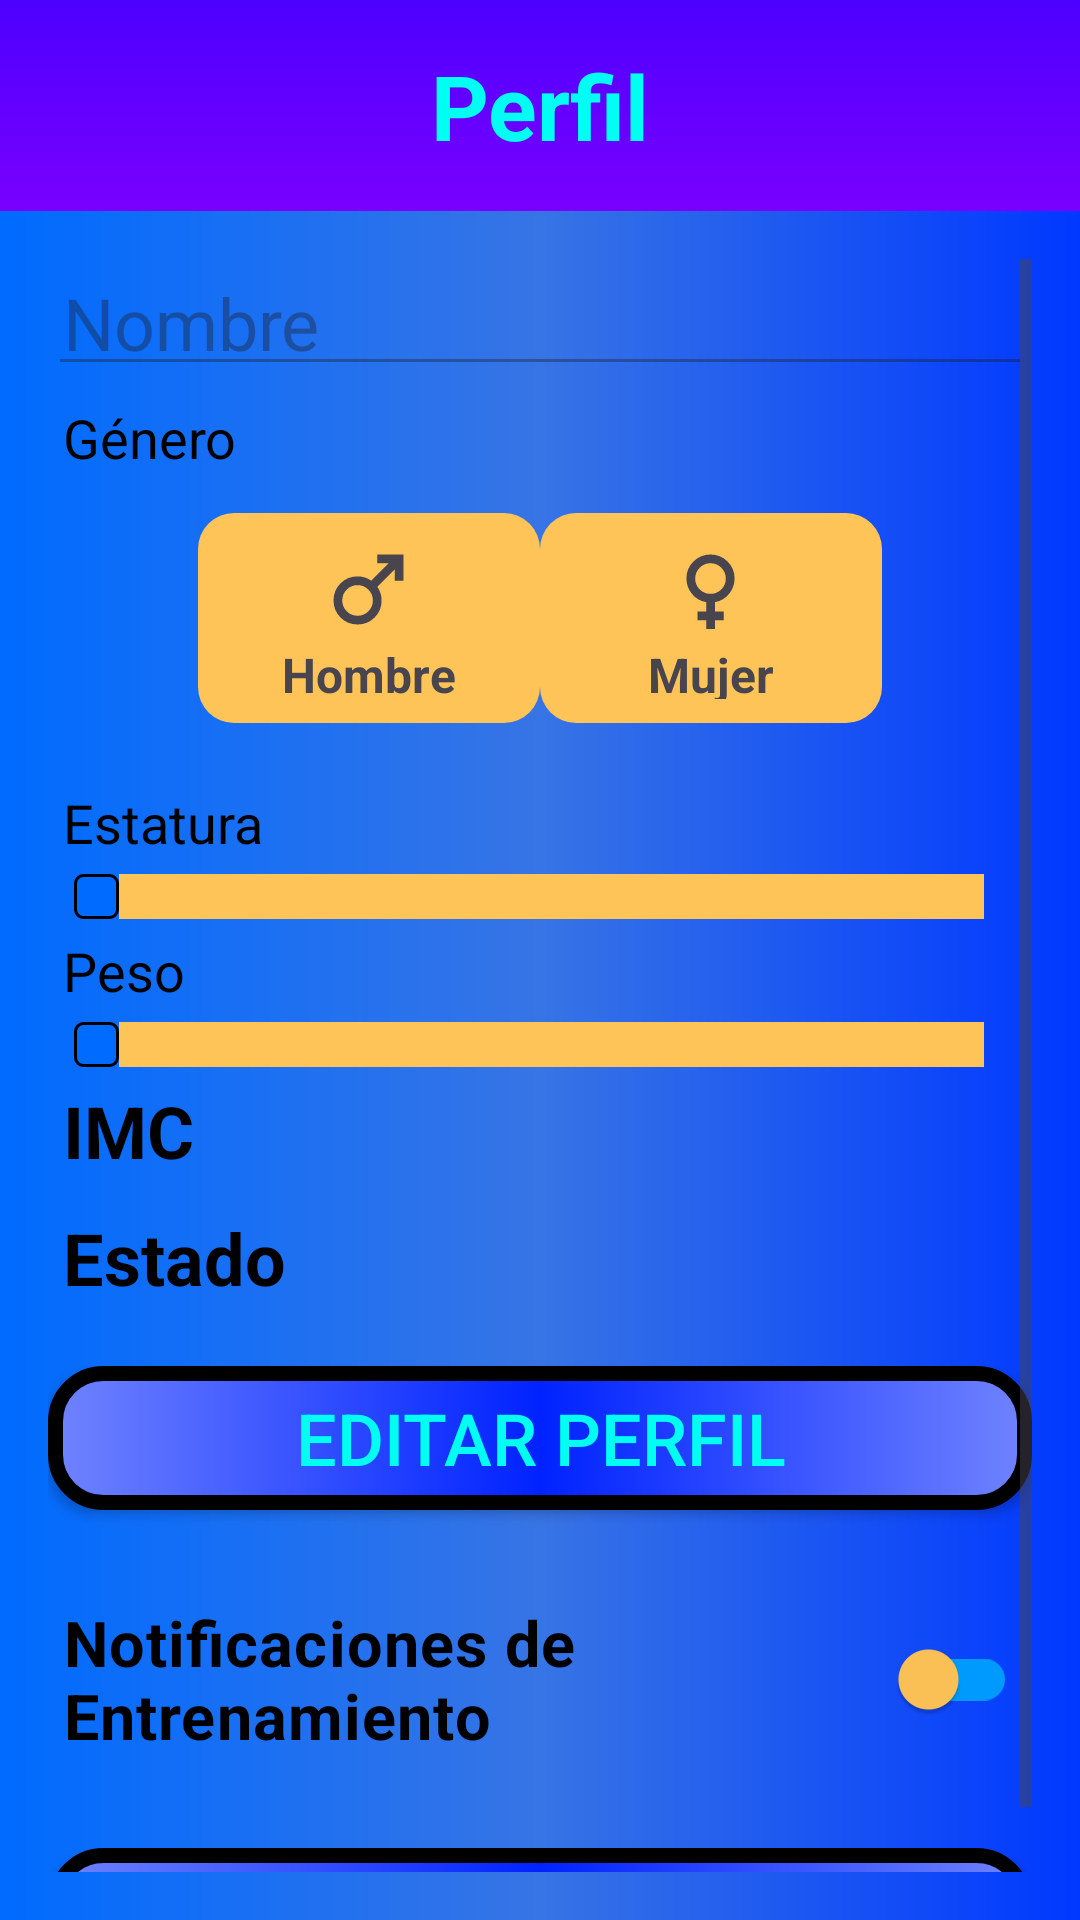

Screen size 1080 x 1920. Icon name, then its center in pixels as (x,y):
Símbolo femenino: (710,591)
Símbolo masculino: (368,589)
